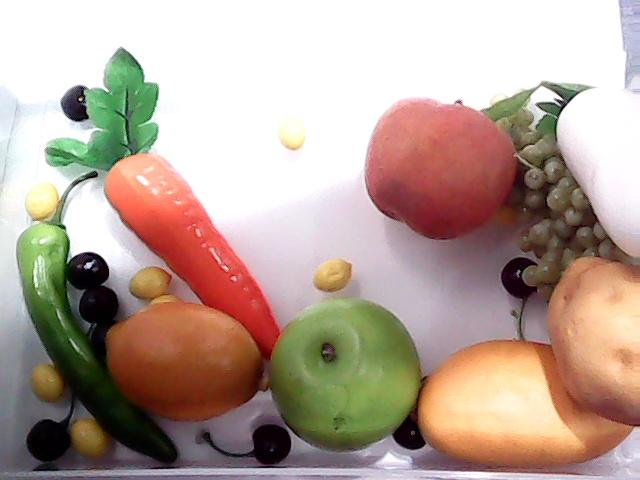apple: (258, 298, 418, 454)
carrot: (46, 47, 284, 353)
grape: (510, 116, 622, 278)
lemon: (88, 296, 272, 422)
mango: (416, 340, 640, 468)
peach: (363, 96, 519, 240)
pepper: (14, 175, 186, 465)
potato: (547, 256, 640, 425)
radish: (536, 80, 640, 260)
